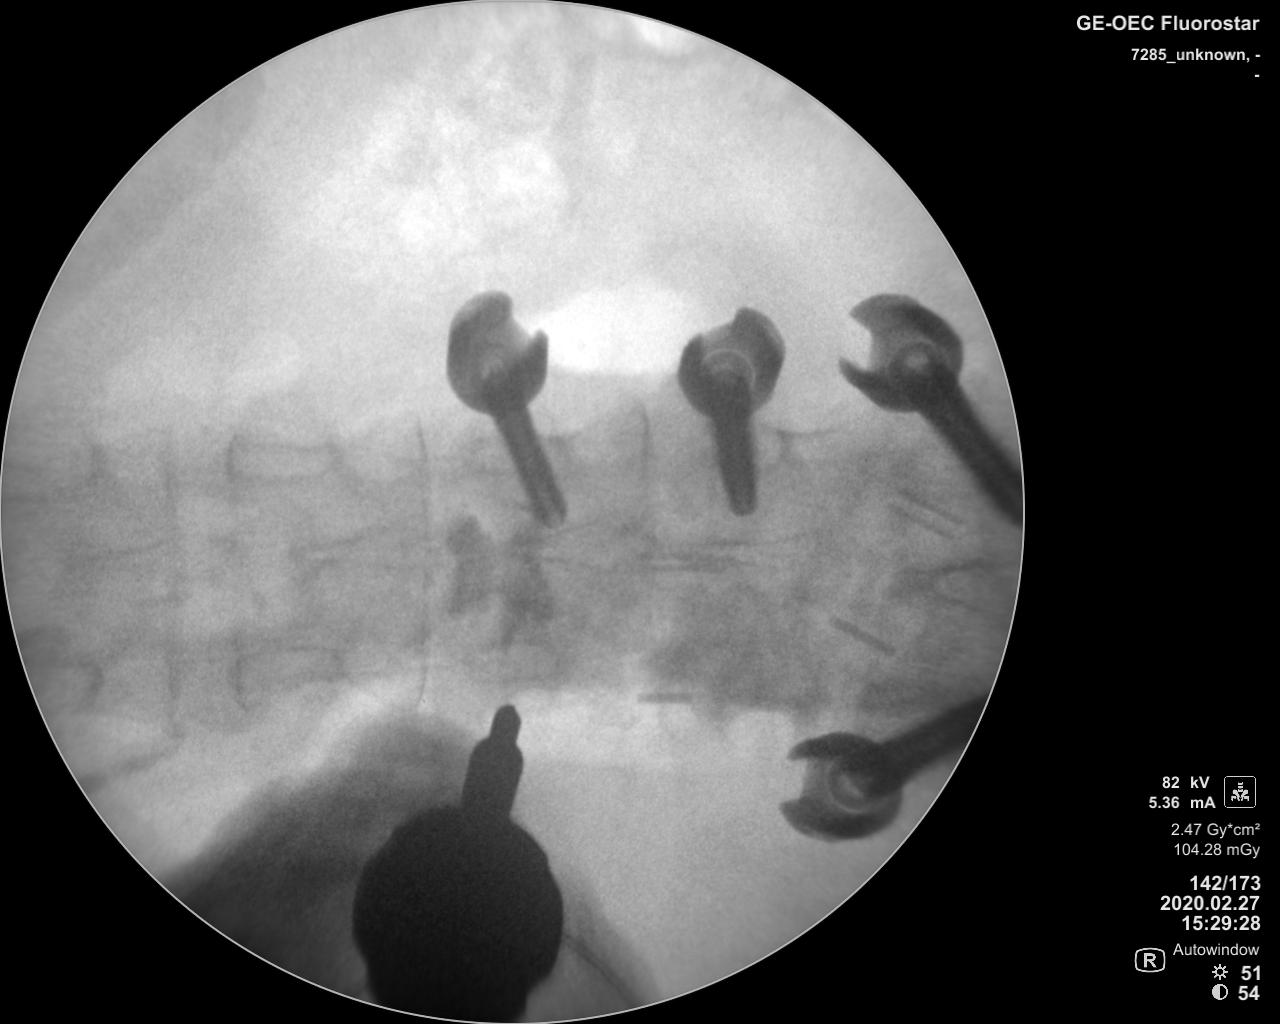eyes: (4, 432, 104, 508), (222, 436, 342, 481), (464, 637, 558, 689), (231, 649, 347, 686), (28, 652, 104, 707)
line: (152, 435, 187, 749), (405, 403, 436, 720), (222, 423, 250, 713)
nose: (492, 514, 656, 575), (74, 527, 243, 585), (285, 522, 439, 578)
